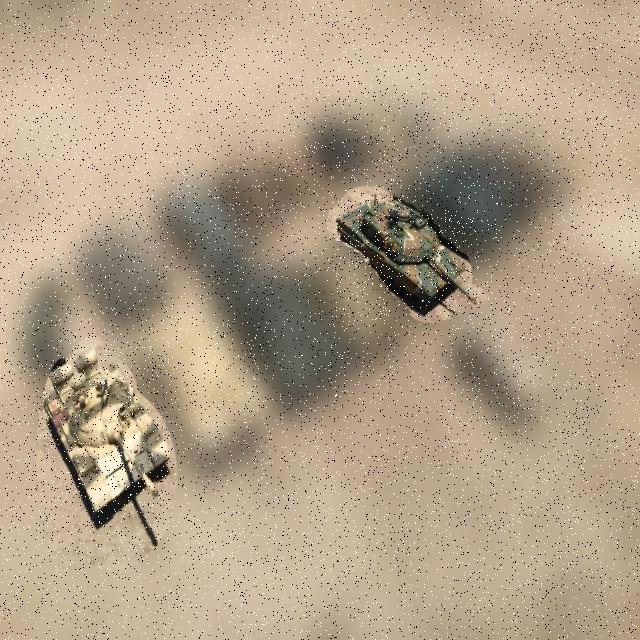MIL_MBT: (39, 346, 173, 529), (336, 197, 479, 315)
